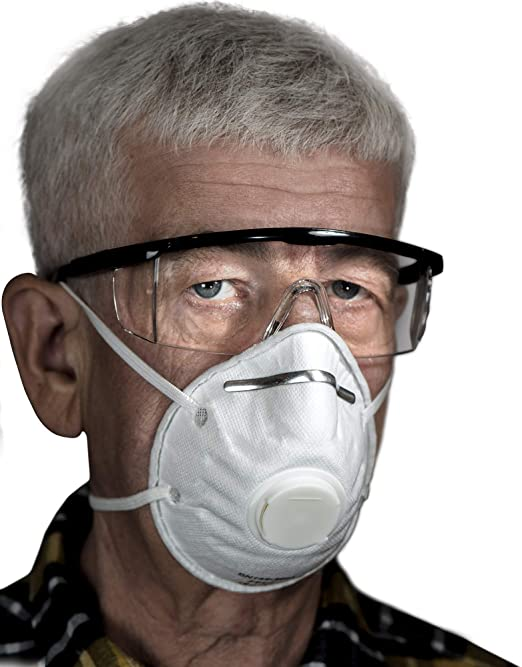n95: (137, 316, 393, 597)
